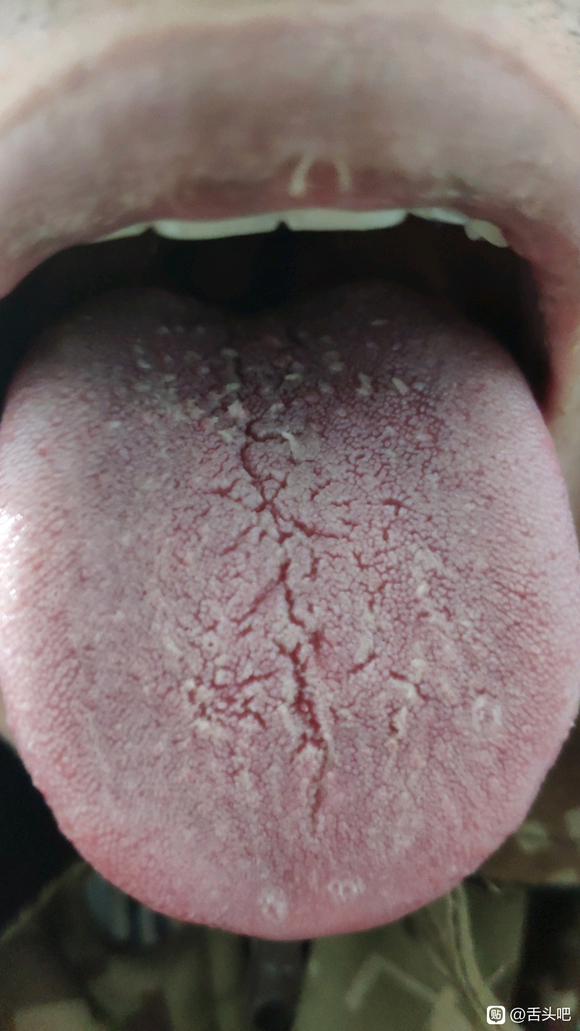baitaishe: (1, 283, 580, 943)
liewenshe: (225, 331, 350, 834)
